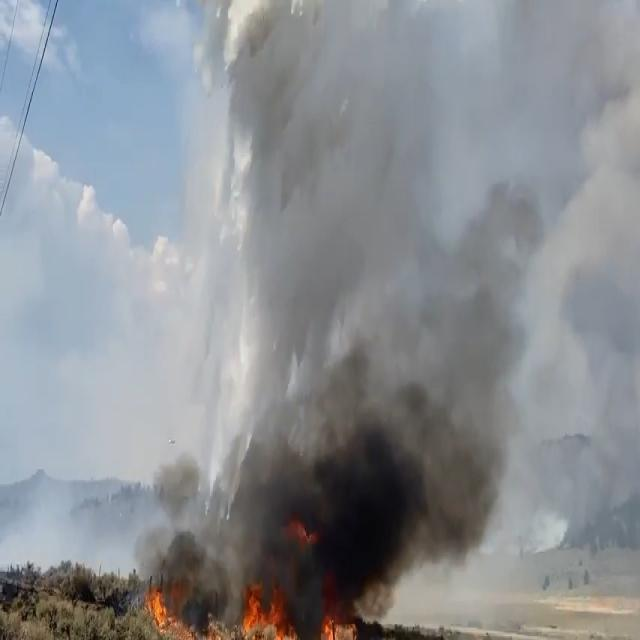Fire: (144, 514, 351, 640)
